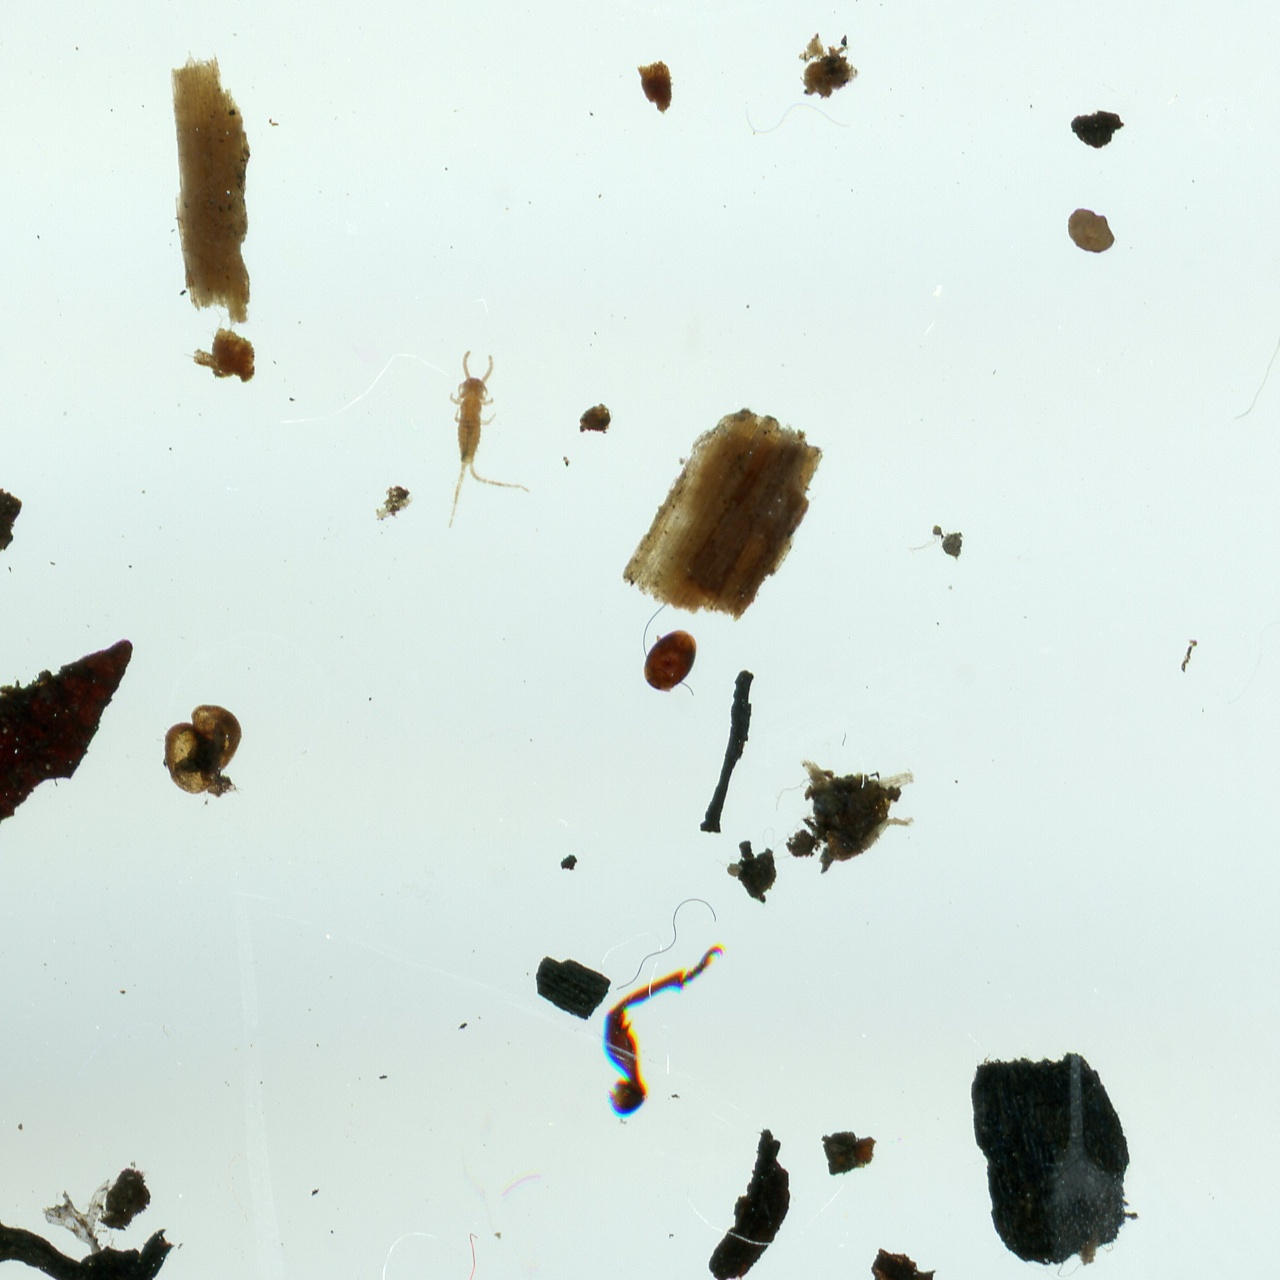arthropod: (440, 348, 540, 535), (644, 628, 697, 693)
